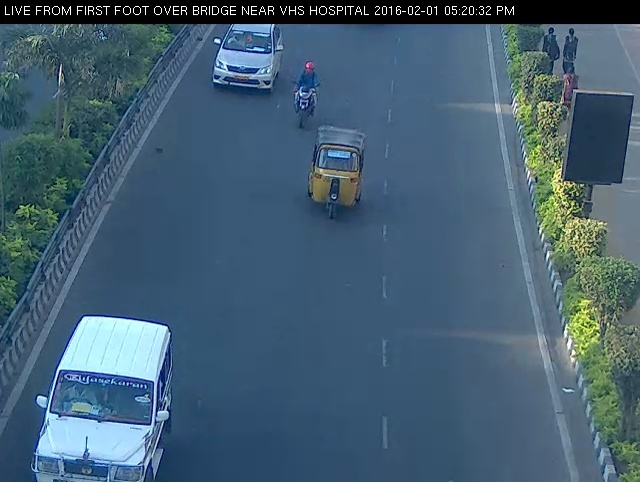Auto: (299, 118, 379, 230)
Car: (26, 311, 188, 480), (193, 16, 303, 101)
Person: (287, 51, 322, 138)
